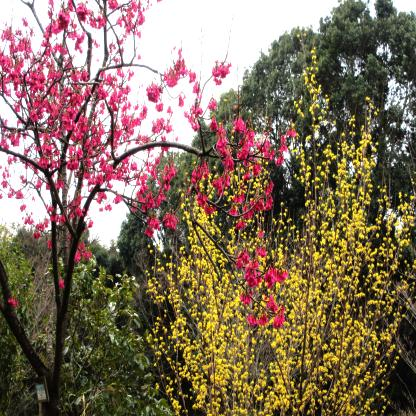KanhiSakura: (0, 0, 298, 332)
